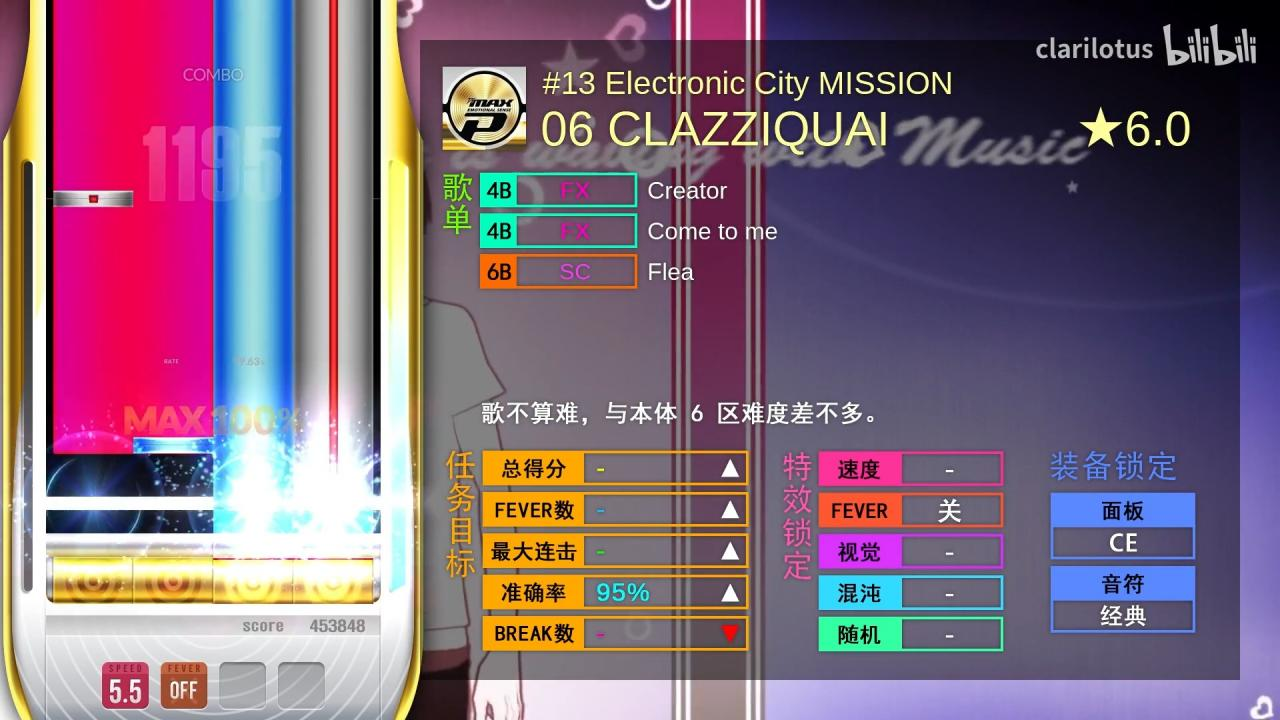note: (54, 190, 134, 208), (133, 437, 215, 453)
xstart: (52, 430, 213, 454)
